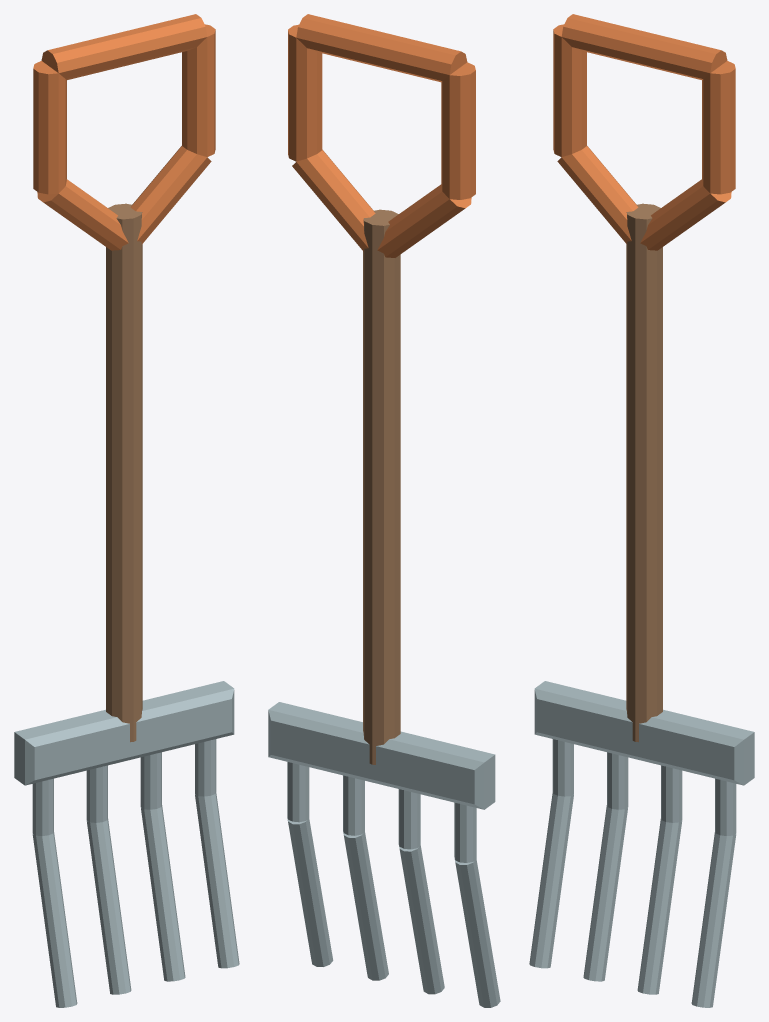
Rendered from harbor-and-tackle-bait-digging-fork-cef8649f__19579.glb.
3 views of the same model, side by side, from view 1: azimuth 30°, elevation 25°; view 2: azimuth 150°, elevation 25°; view 3: azimuth 330°, elevation 25° (orthographic). The views are drawn at different scales.
Visible parts, largest first — view 1: metal, orange, cedar; view 2: metal, orange, cedar; view 3: metal, orange, cedar.
Part boxes in pixels (<box>): metal: <box>14,681,239,1007</box>; orange: <box>33,14,215,250</box>; cedar: <box>106,203,142,742</box>; metal: <box>268,702,500,1007</box>; orange: <box>288,14,475,257</box>; cedar: <box>363,209,400,764</box>; metal: <box>529,681,754,1007</box>; orange: <box>553,14,735,250</box>; cedar: <box>626,203,662,742</box>.
Size of the model in its own units: 0.31 by 1.32 by 0.0975.
